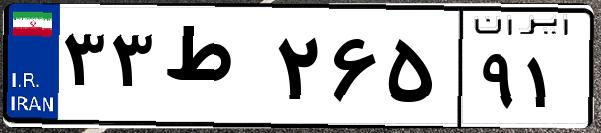1: (525, 38, 570, 115)
2: (270, 28, 330, 110)
3: (57, 26, 110, 100), (110, 28, 158, 98)
5: (385, 28, 445, 110)
6: (330, 28, 385, 110)
9: (475, 38, 525, 113)
ط: (158, 20, 270, 120)
